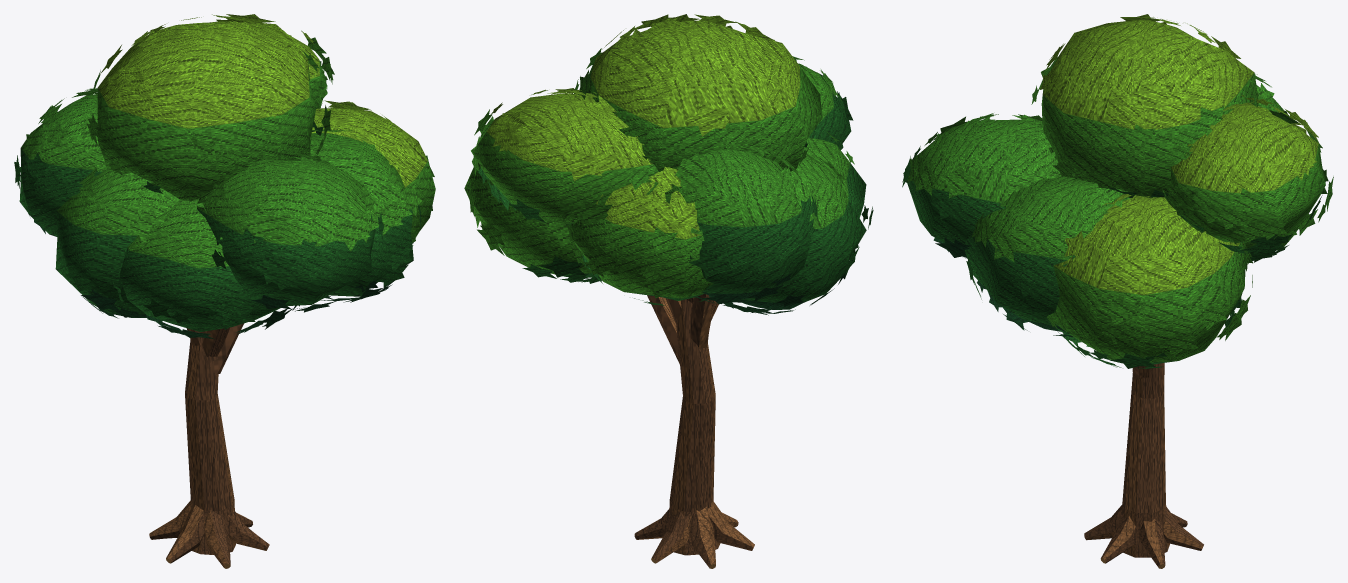
Rendered from SM_Woodland_Broadleaf_A.fbx.
The picture shows the model from 3 angles, left to right: view 1: azimuth 30°, elevation 25°; view 2: azimuth 150°, elevation 25°; view 3: azimuth 270°, elevation 25°; orthographic projection.
Visible parts, largest first — view 1: SM_Woodland_Broadleaf_A; view 2: SM_Woodland_Broadleaf_A; view 3: SM_Woodland_Broadleaf_A.
Part boxes in pixels (left/top/right/bottom): SM_Woodland_Broadleaf_A: left=14, top=14, right=435, bottom=568; SM_Woodland_Broadleaf_A: left=464, top=14, right=873, bottom=568; SM_Woodland_Broadleaf_A: left=902, top=14, right=1333, bottom=568.
Bounding box in the file's own units: 453 × 468 × 616.
1 material, 1 textured.
